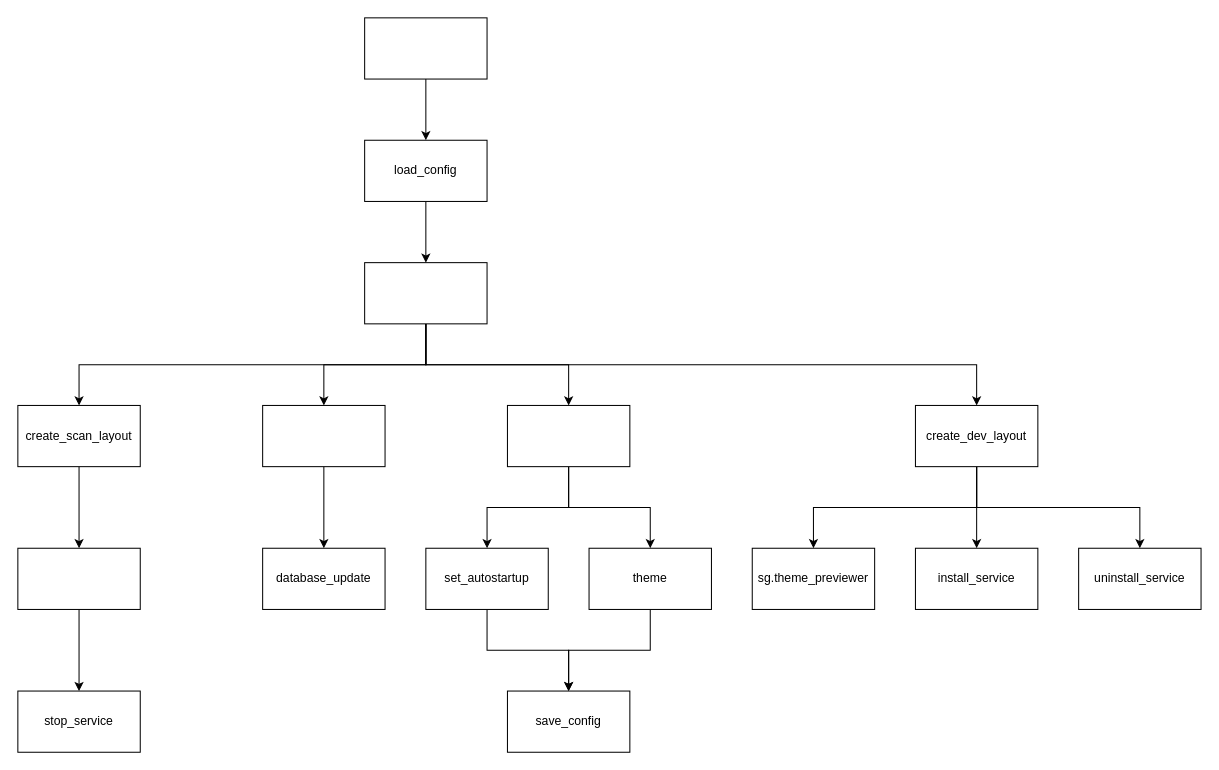
Image size: 1219x770. Some labels were removed from this diagram. Each missing label, with the centre of its shape:
"create_main_layout" belongs at (425,293).
"create_settings_layout" belongs at (568,435).
"create_update_layout" belongs at (323,435).
"Start" belongs at (425,48).
"start_service" belongs at (78,578).
